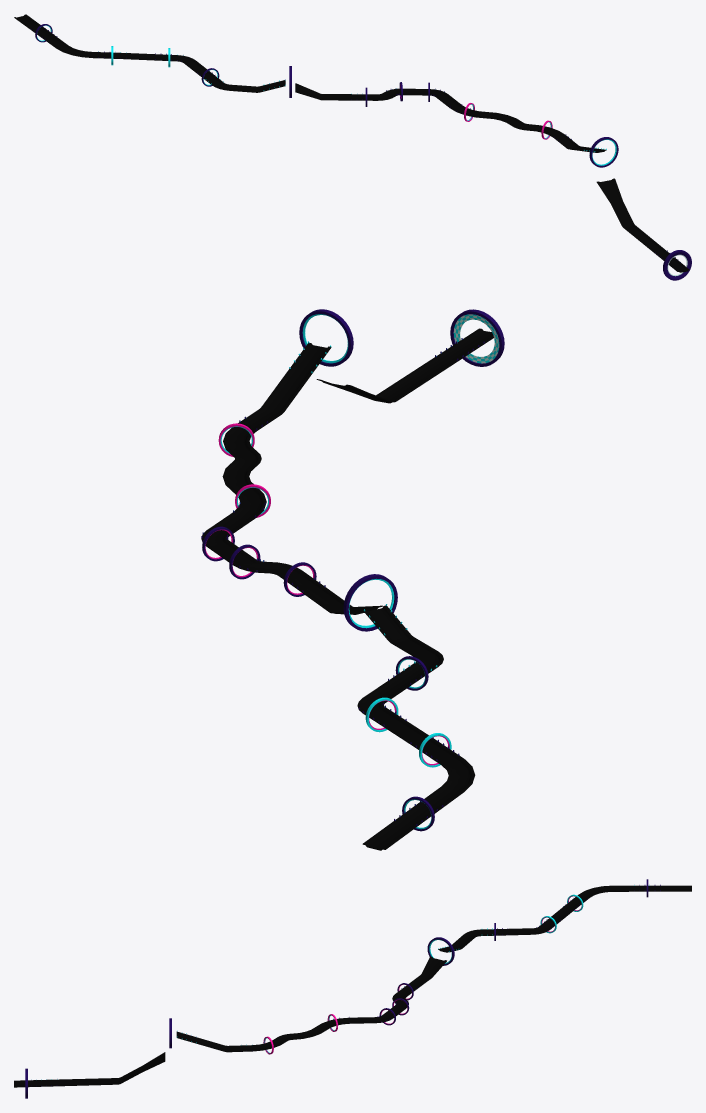
Rendered from RingTrack - Baby.FBX.
3 renders of one model, top to bottom at view 1: azimuth 30°, elevation 25°; view 2: azimuth 150°, elevation 25°; view 3: azimuth 270°, elevation 25°, orthographic. The views are drawn at different scales.
Visible parts, largest first — view 1: Object130; view 2: Object130; view 3: Object130.
Boxes of the visible parts, left/top/right/bottom form: Object130: left=14, top=14, right=691, bottom=280; Object130: left=201, top=309, right=504, bottom=850; Object130: left=14, top=879, right=691, bottom=1098.
Bounding box in the file's own units: 42852 × 11273 × 82438.
